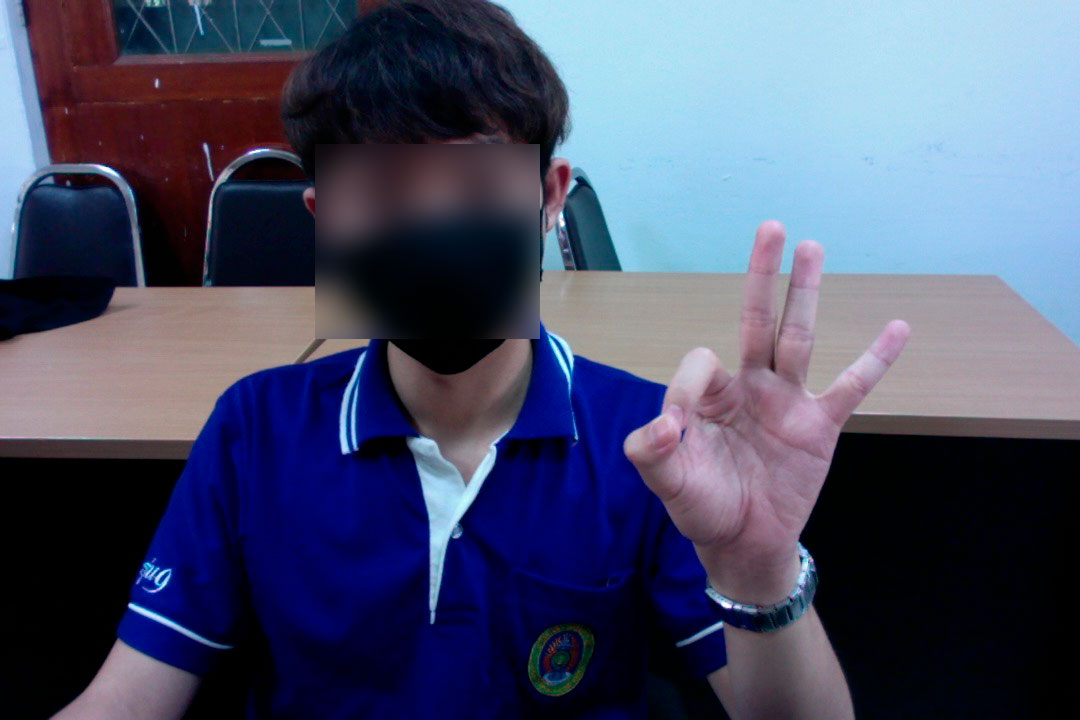for: (614, 212, 929, 568)
